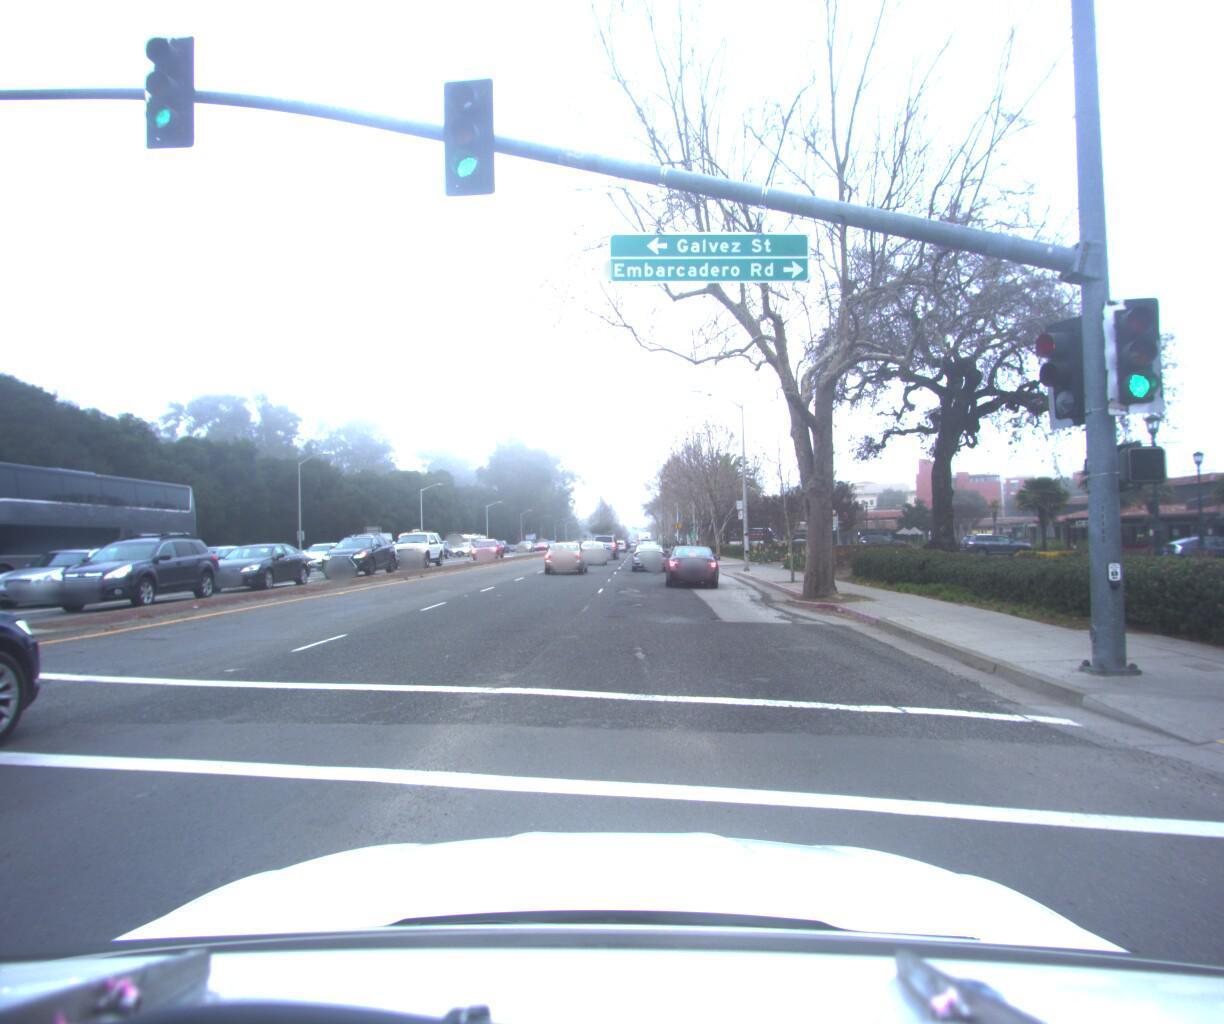bus: (0, 441, 210, 614)
car: (0, 489, 100, 1024), (38, 528, 231, 621), (0, 543, 165, 610), (198, 538, 321, 597), (314, 528, 404, 580), (0, 527, 18, 685), (665, 537, 722, 583), (386, 525, 449, 565), (538, 532, 589, 573), (297, 536, 356, 565), (627, 537, 668, 569), (571, 527, 605, 561), (470, 533, 508, 554), (592, 530, 623, 555), (449, 537, 476, 553)
other_vehicle: (345, 526, 397, 562)
